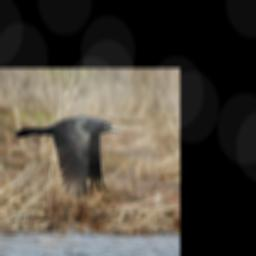Crow: (15, 114, 120, 199)
